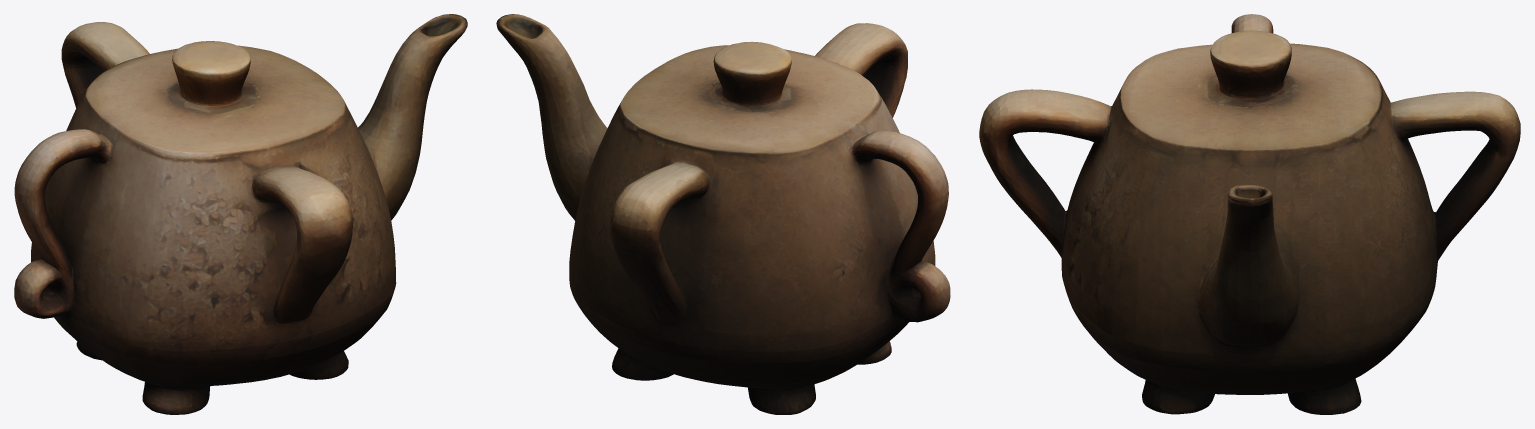
The model's file is pred.glb.
3 views of the same model, side by side, from view 1: azimuth 30°, elevation 25°; view 2: azimuth 150°, elevation 25°; view 3: azimuth 270°, elevation 25° (orthographic). The views are drawn at different scales.
Visible parts, largest first — view 1: world; view 2: world; view 3: world.
Part boxes in pixels (<box>): world: <box>14,14,467,414</box>; world: <box>496,14,950,414</box>; world: <box>979,14,1520,414</box>.
Bounding box in the file's own units: 0.9957 × 0.6493 × 0.9925.
Materials: 1 (1 with a texture image).
